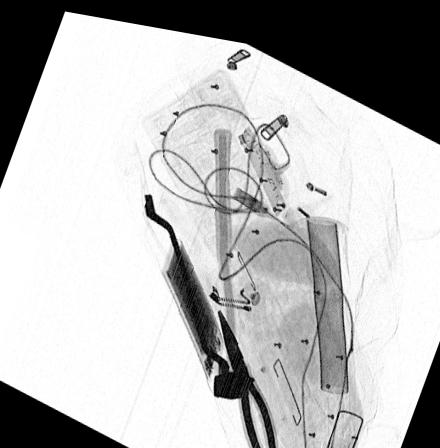Hammer: (211, 118, 254, 391)
Pliers: (214, 300, 277, 448)
Powerbank: (160, 228, 224, 374)
Wrench: (141, 187, 229, 377)
